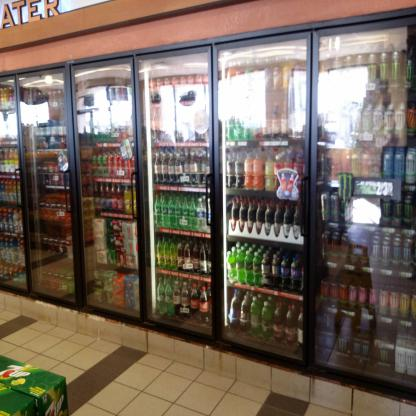Void: (43, 221, 61, 240)
